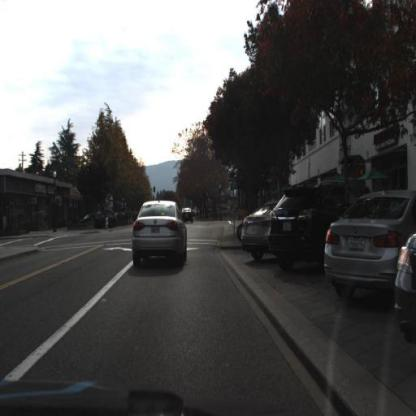car: (323, 188, 416, 300), (268, 185, 336, 271), (132, 199, 189, 268), (240, 202, 271, 262), (80, 210, 111, 231), (177, 201, 198, 232), (181, 205, 196, 225)
